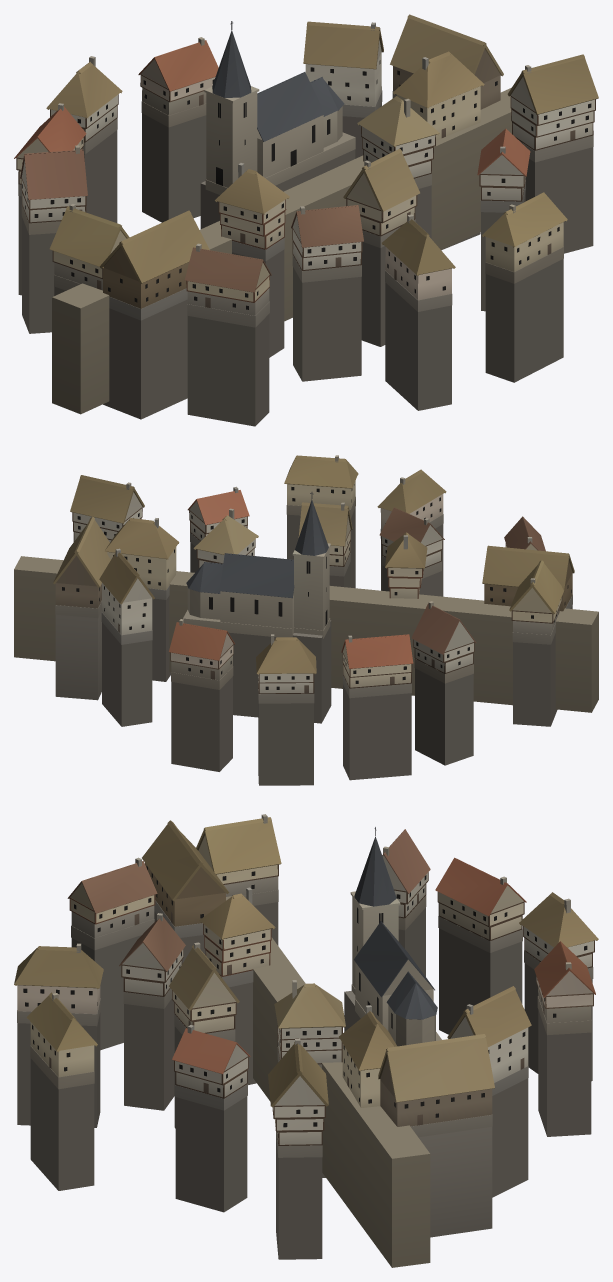
The model's file is village.glb.
3 renders of one model, top to bottom at view 1: azimuth 30°, elevation 25°; view 2: azimuth 150°, elevation 25°; view 3: azimuth 270°, elevation 25°, orthographic. The views are drawn at different scales.
Visible parts, largest first — view 1: village; view 2: village; view 3: village.
Boxes of the visible parts, left/top/right/bottom form: village: left=14, top=14, right=598, bottom=426; village: left=14, top=455, right=598, bottom=785; village: left=14, top=814, right=598, bottom=1267.
Bounding box in the file's own units: 2.14 × 0.9075 × 1.75.
